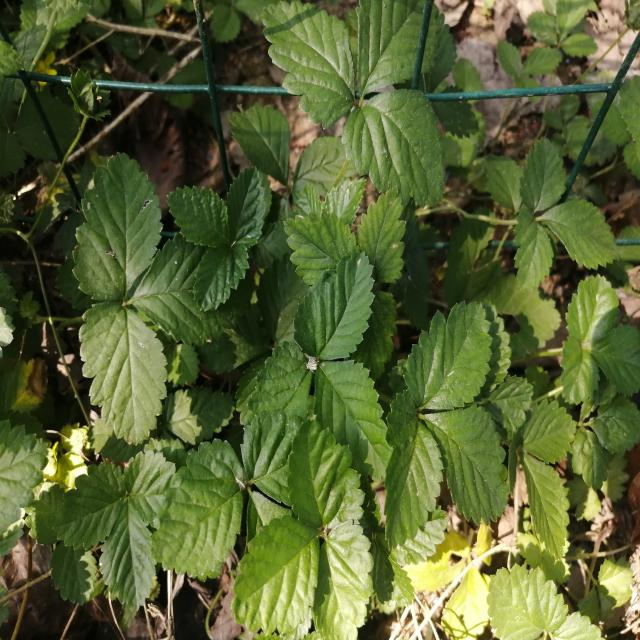Mock_strawberry: (138, 402, 397, 620), (49, 162, 216, 452), (237, 214, 401, 472), (336, 292, 505, 525)
